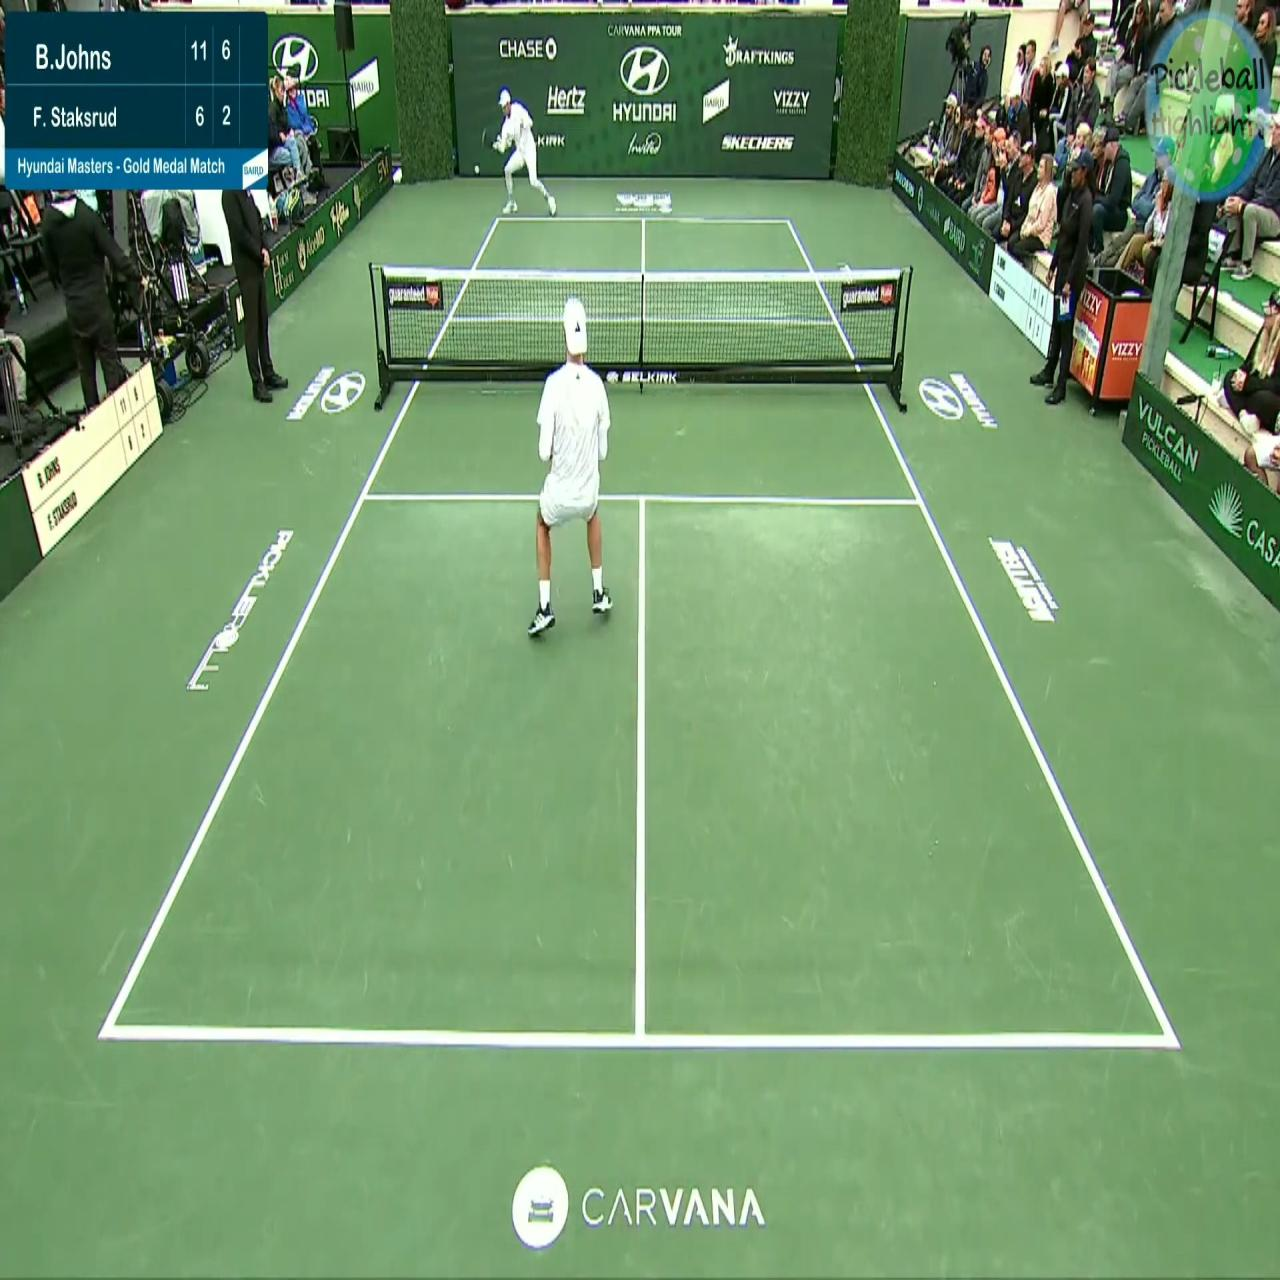pickleball: (474, 164, 479, 176)
